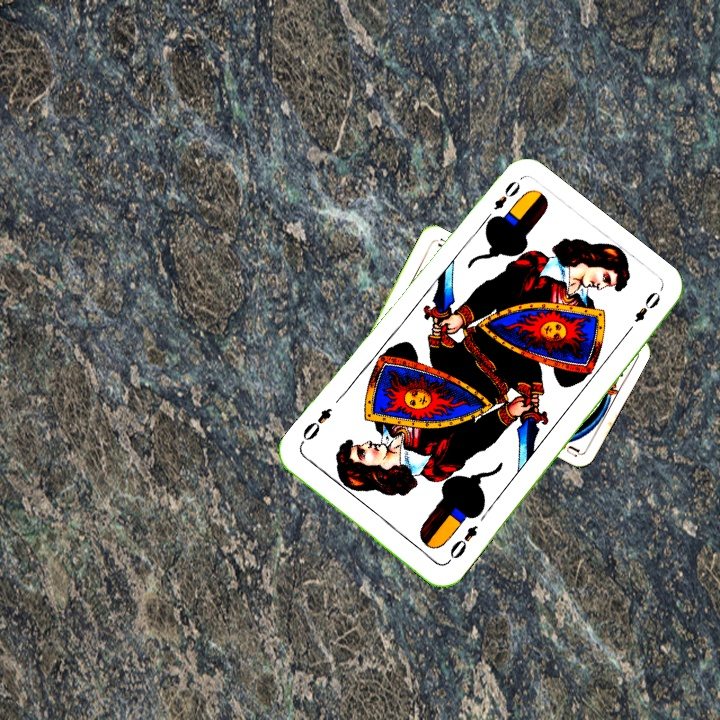EO: (443, 520, 481, 566), (489, 176, 524, 213)
